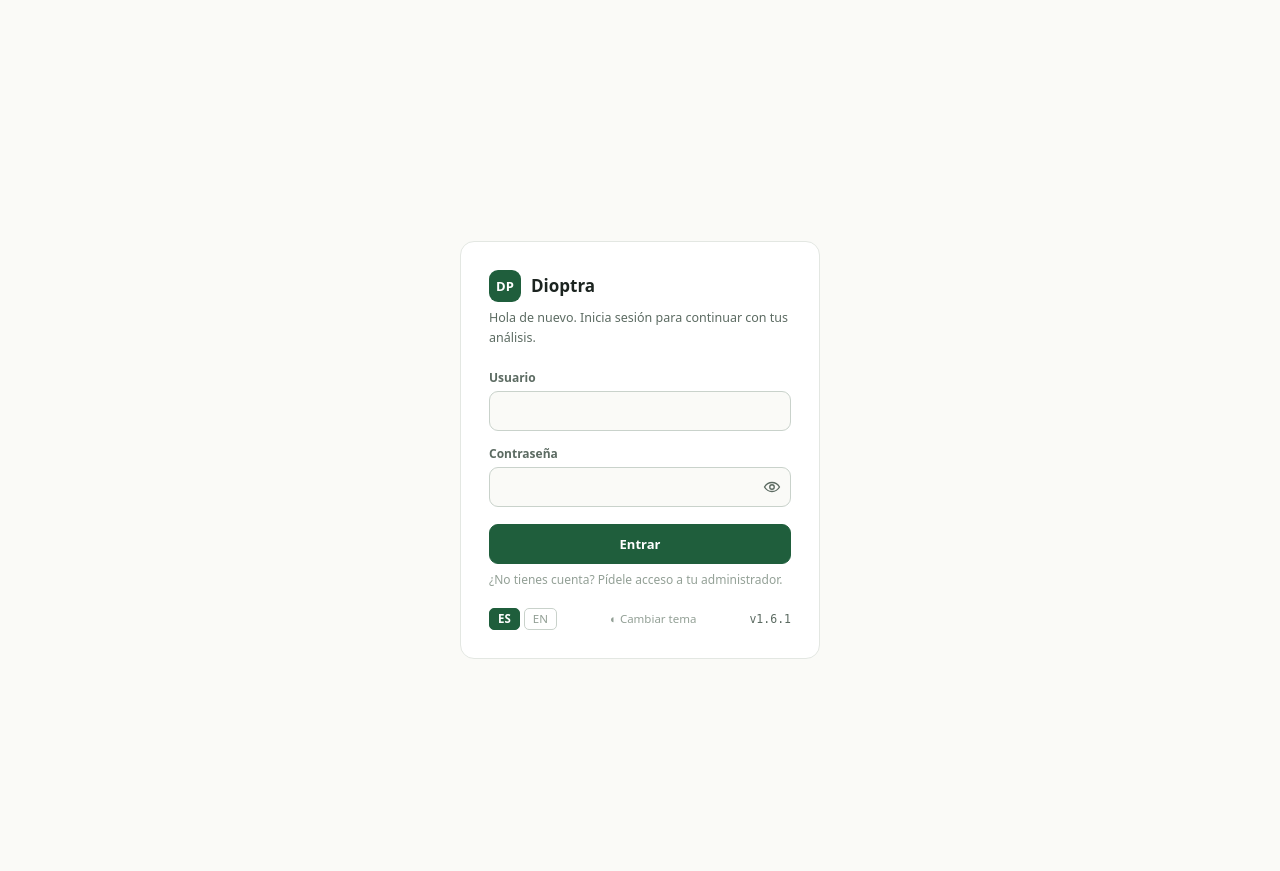
Test: report screen › keeps the editor open with the draft when the server rejects the save
In the field labelled "Usuario": point(640, 411) [489,391,791,431], type "mmarin"
In the password field labelled "Contraseña": point(640, 487) [489,467,791,507], type "correct-horse-battery-staple"
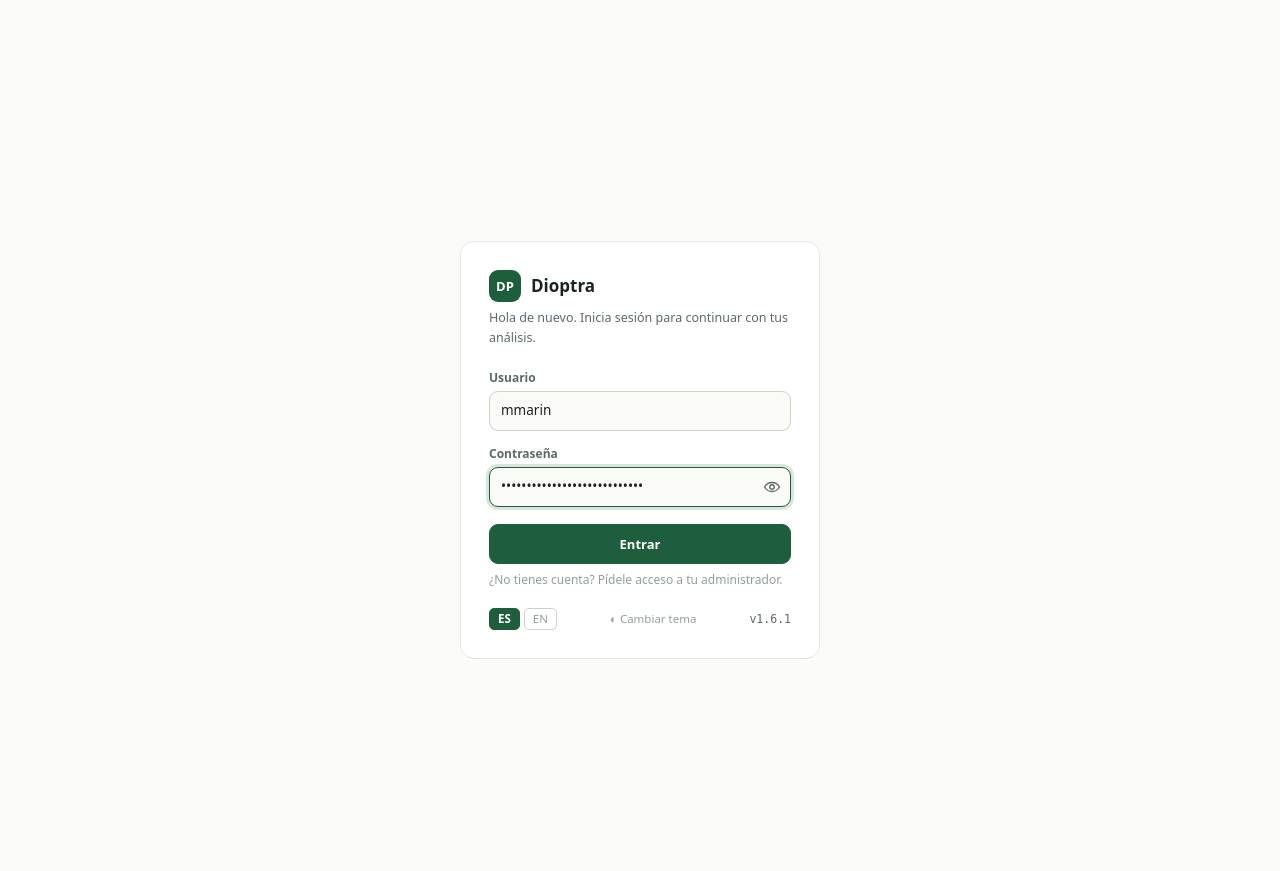
Click the button "Entrar": point(640, 544) [489,524,791,564]
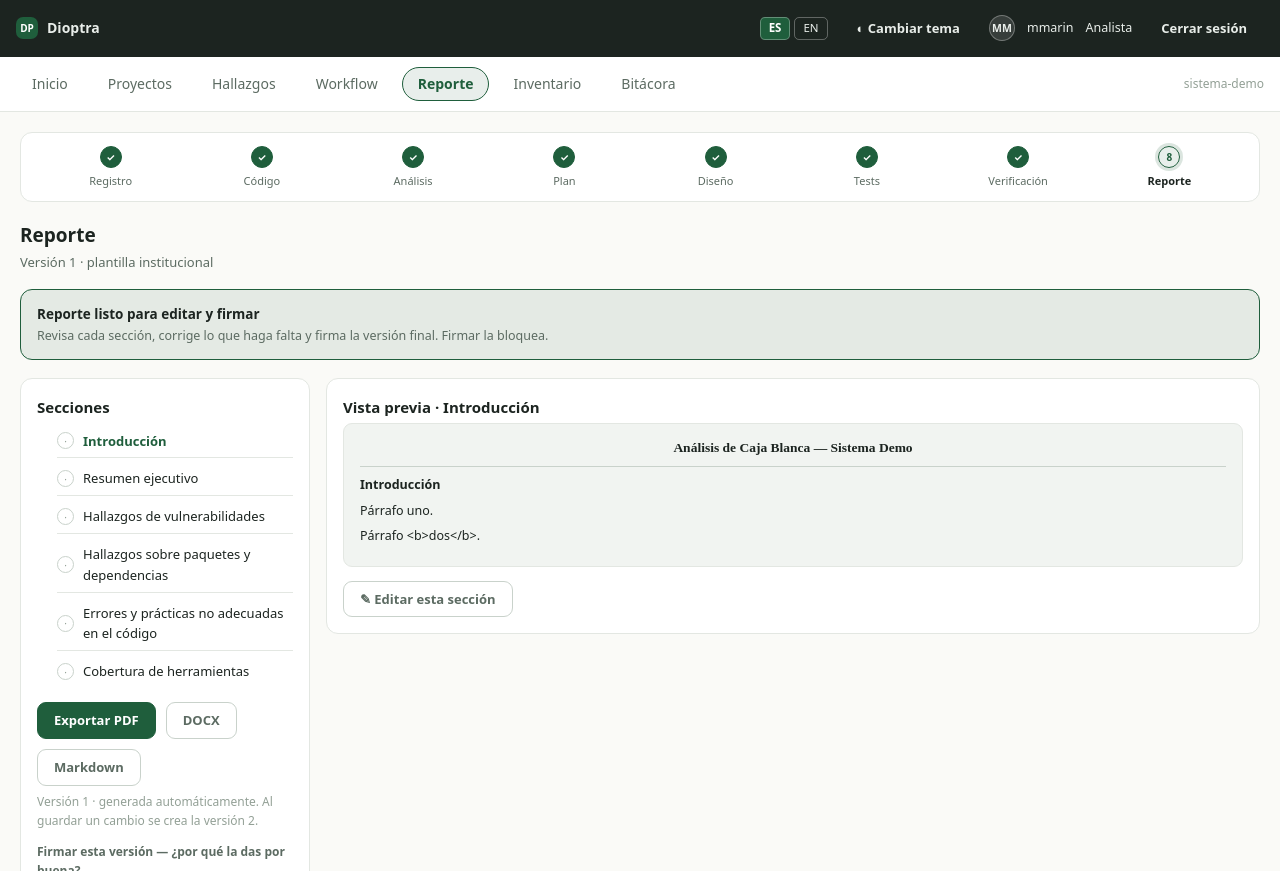
Click the button "✎ Editar esta sección": point(428, 599) [343,581,513,617]
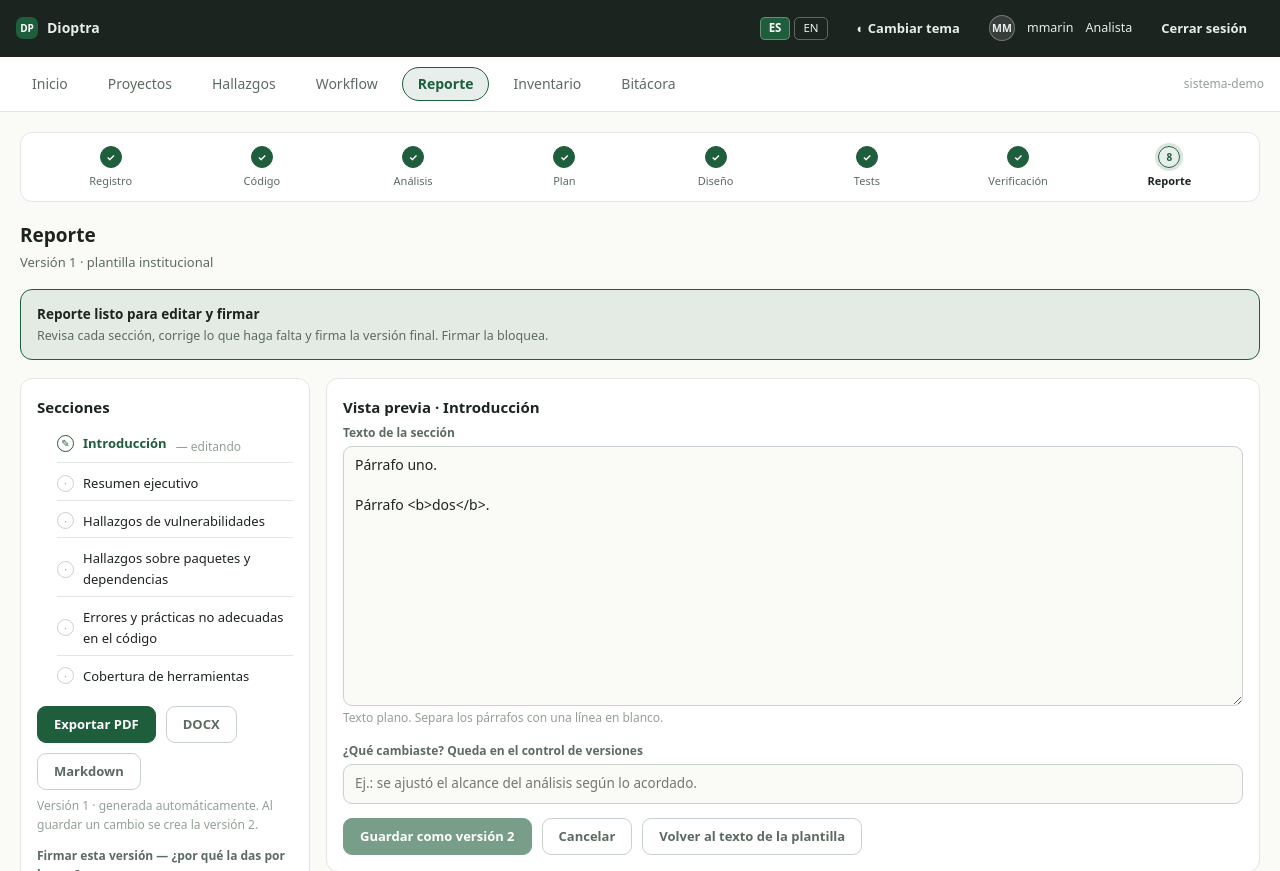
Replace the text in the text box labelled "Texto de la sección" with "Borrador que no debe perderse.": point(793, 576) [343,446,1243,706]
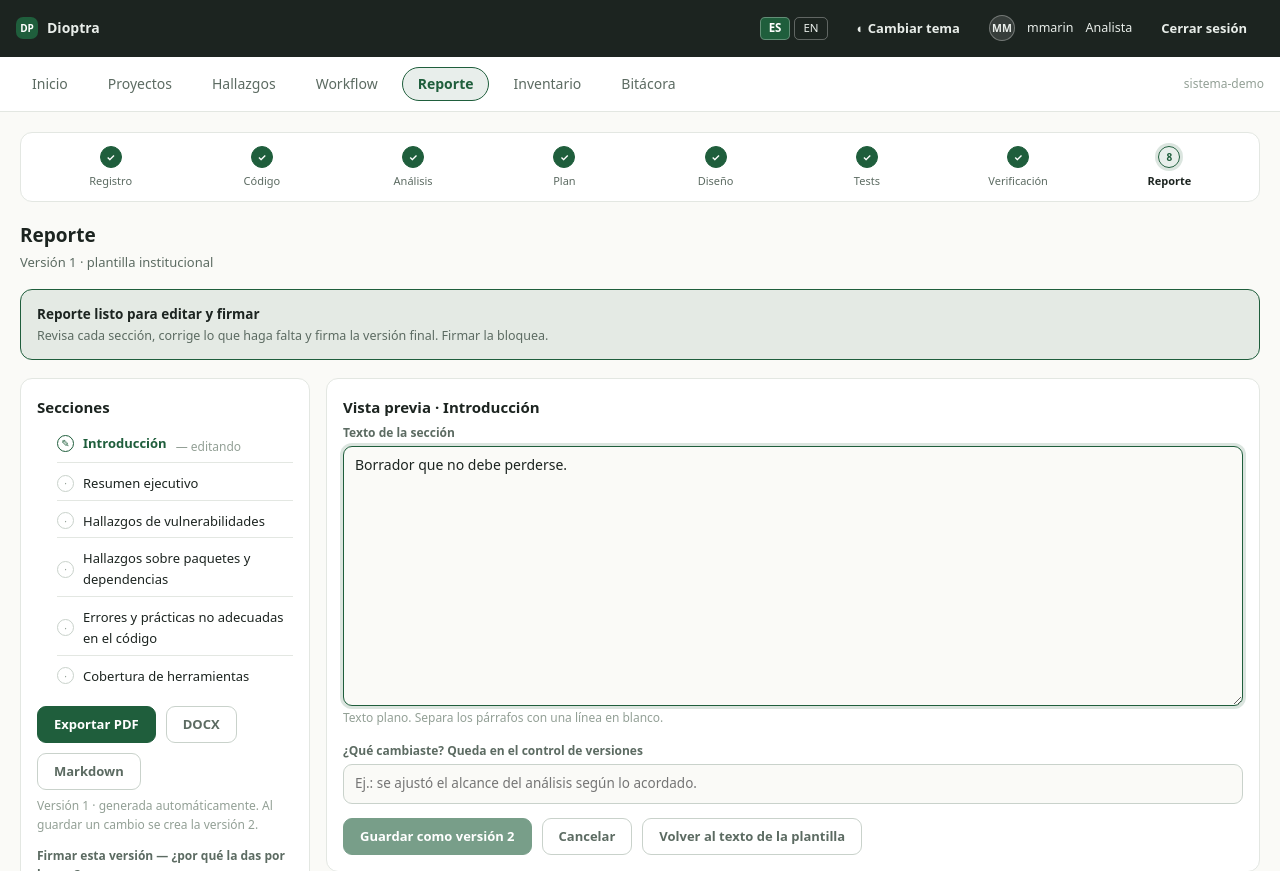
In the field labelled "¿Qué cambiaste? Queda en el control de versiones": point(793, 784) [343,764,1243,804], type "Cambio de prueba largo."
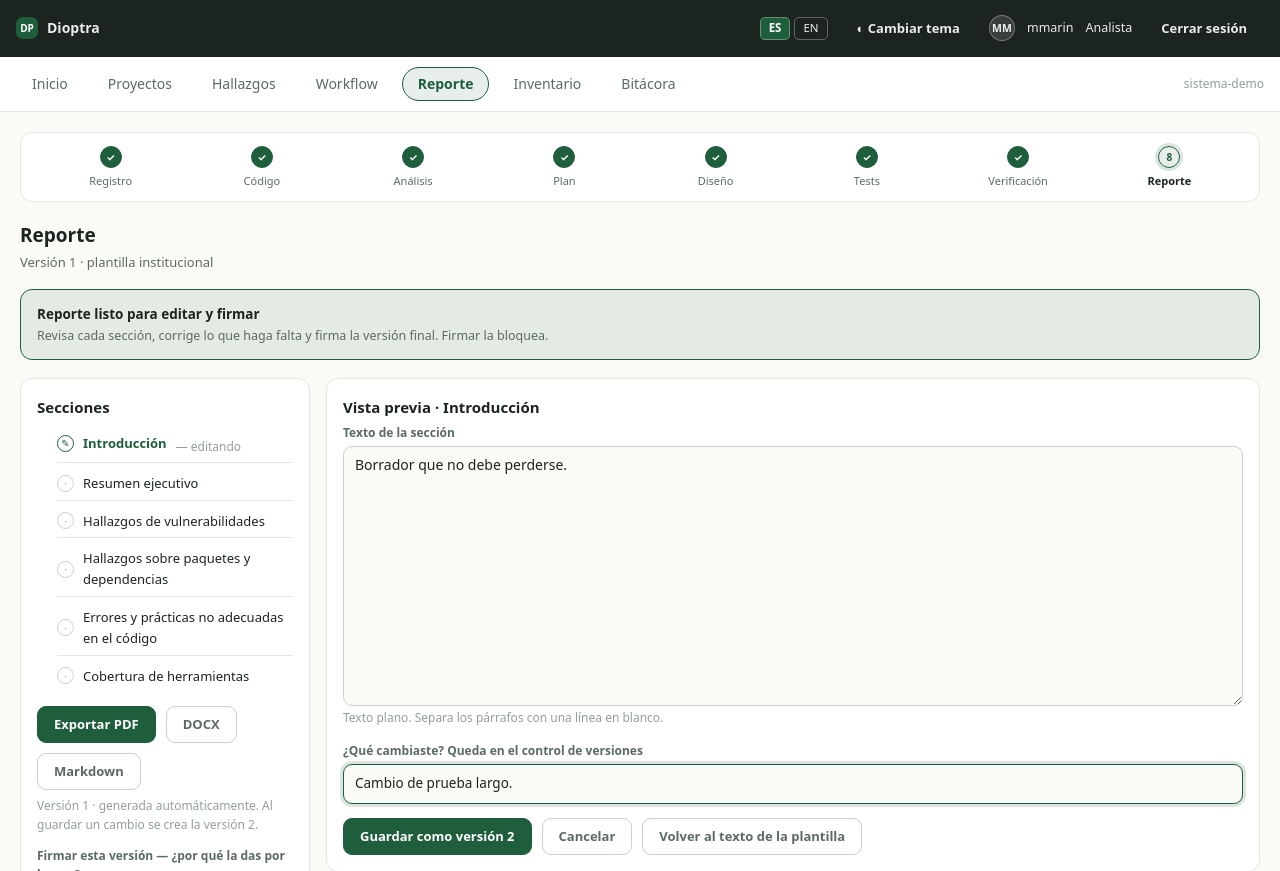
Click the button "Guardar como versión 2": point(437, 836) [343,818,532,855]
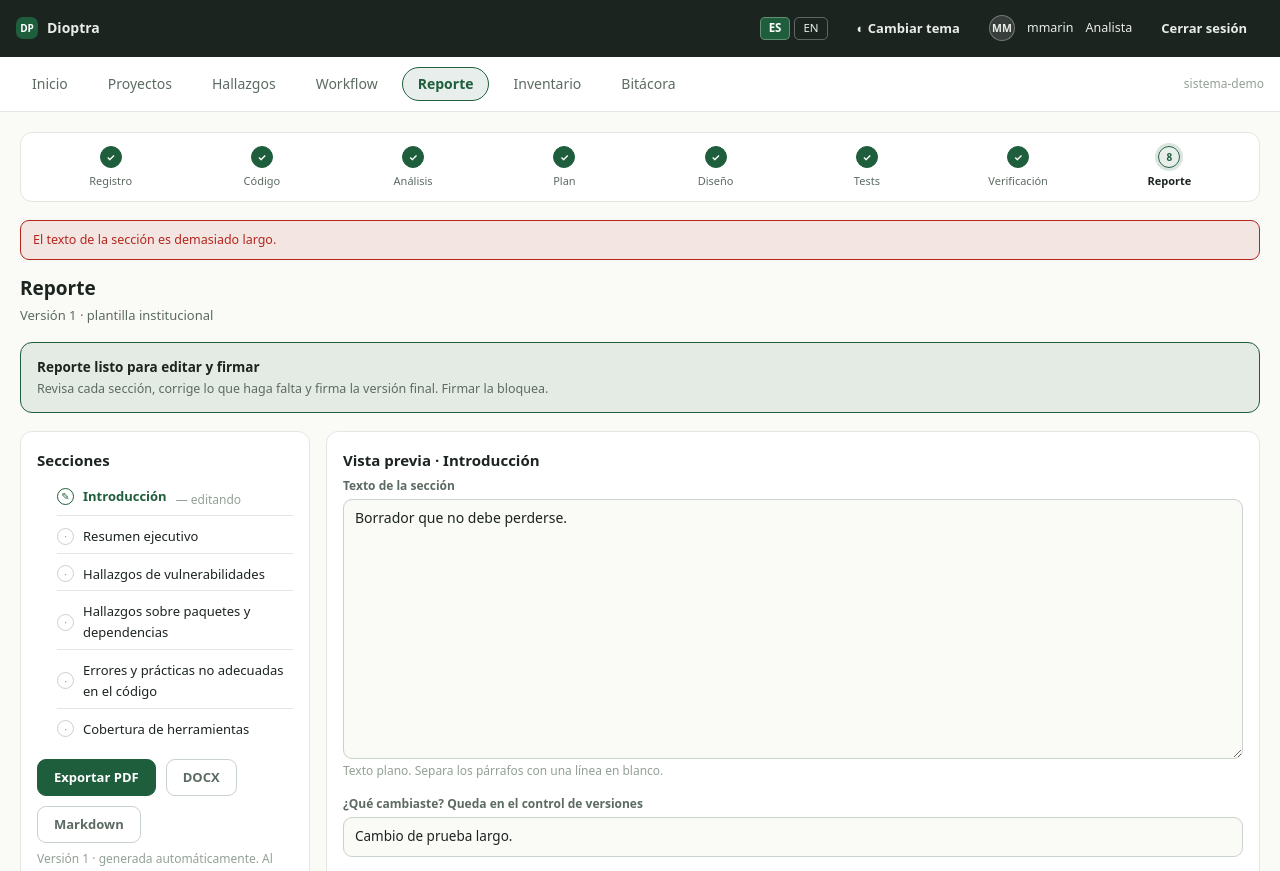
Result: the message reads "El texto de la sección es demasiado largo." at [33,231,276,248]
